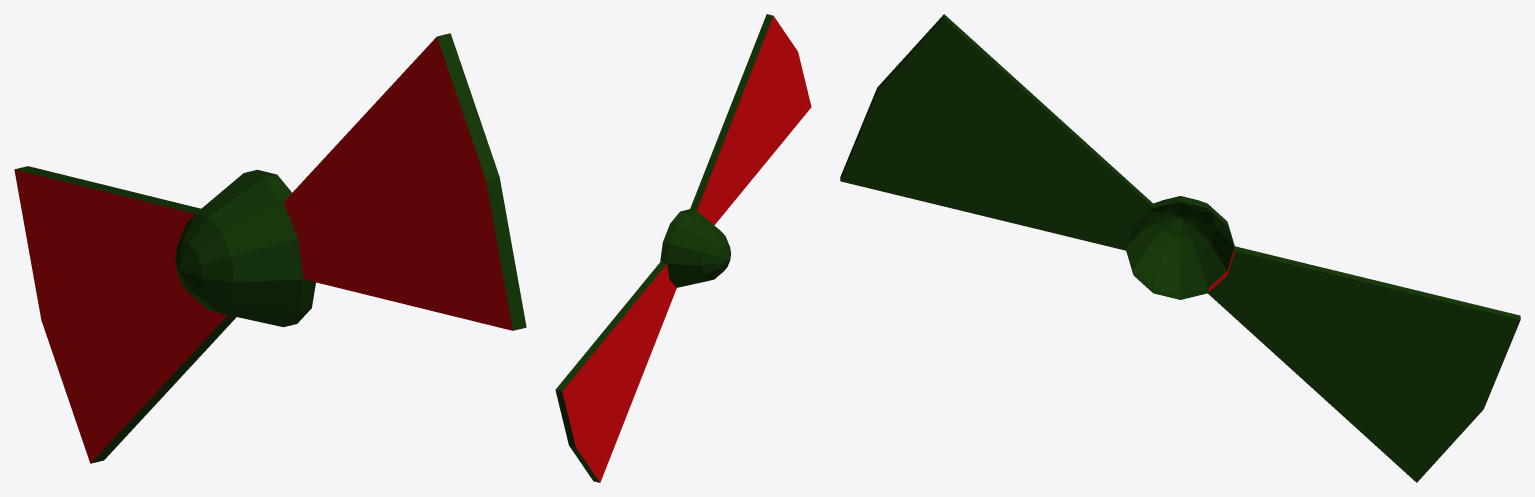
File: proplast.fbx
3 views of the same model, side by side, from view 1: azimuth 30°, elevation 25°; view 2: azimuth 150°, elevation 25°; view 3: azimuth 270°, elevation 25° (orthographic). The views are drawn at different scales.
Parts seen in each view (by area): view 1: Cylinder; view 2: Cylinder; view 3: Cylinder.
Boxes of the visible parts, x1,y1,x2,y2 form: Cylinder: [14, 33, 526, 463]; Cylinder: [555, 14, 811, 482]; Cylinder: [840, 14, 1520, 482].
Size of the model in its own units: 26.34 by 175 by 232.
